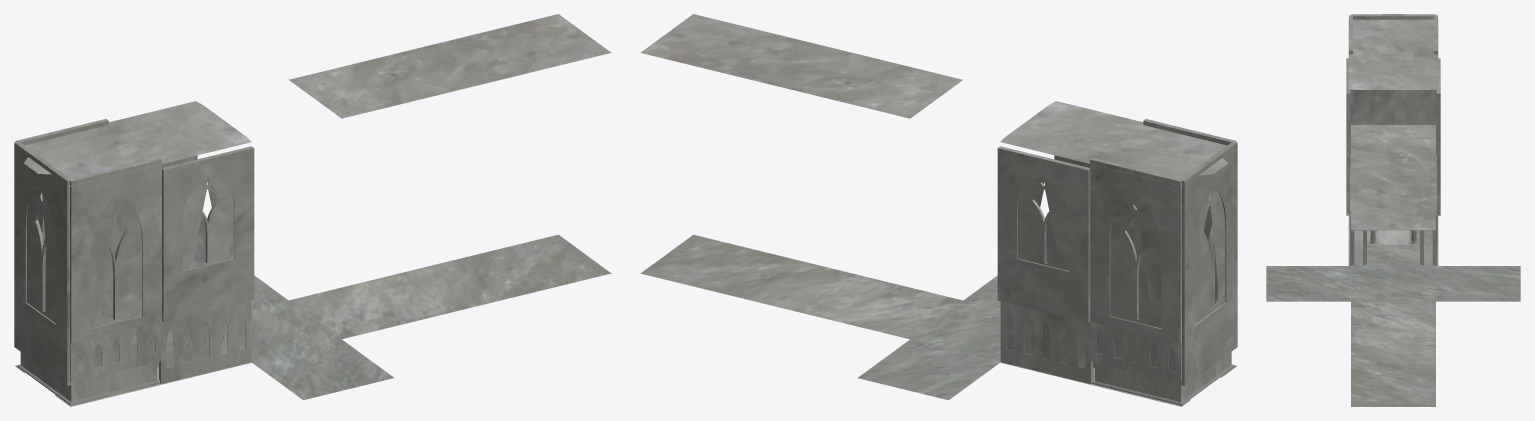
File: mainstage-textured1.fbx
3 views of the same model, side by side, from view 1: azimuth 30°, elevation 25°; view 2: azimuth 150°, elevation 25°; view 3: azimuth 270°, elevation 25° (orthographic). The views are drawn at different scales.
Visible parts, largest first — view 1: MAIN STAGE; view 2: MAIN STAGE; view 3: MAIN STAGE.
Boxes of the visible parts, box(x1,y1,x2,y2) form: MAIN STAGE: box(14, 14, 611, 406); MAIN STAGE: box(640, 14, 1237, 406); MAIN STAGE: box(1266, 14, 1520, 406).
Bounding box in the file's own units: 14692 × 5698 × 7289.
